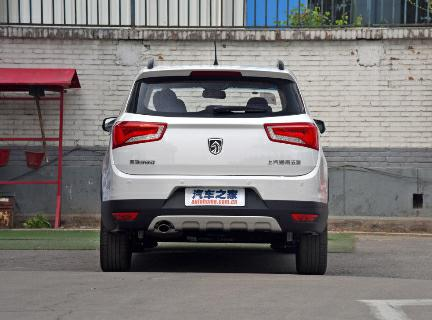宝骏-730: (95, 56, 336, 280)
